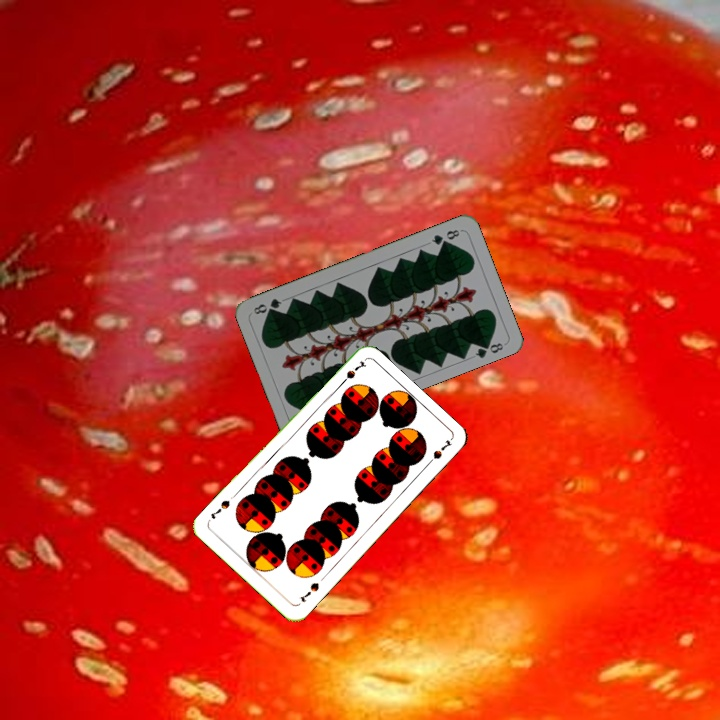G8: (427, 225, 462, 248)
S7: (335, 357, 367, 389), (296, 578, 322, 605)
